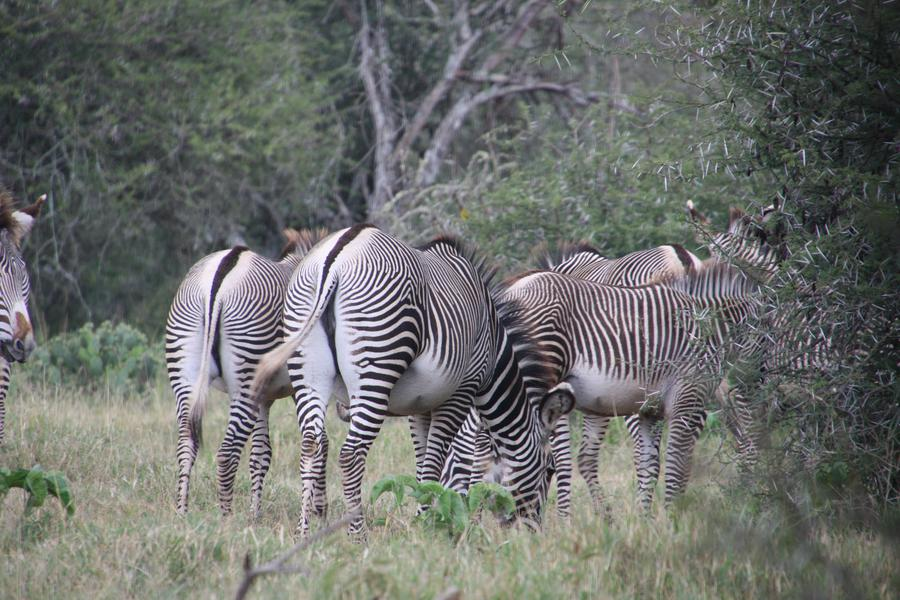zebra_grevys: (512, 258, 722, 399)
